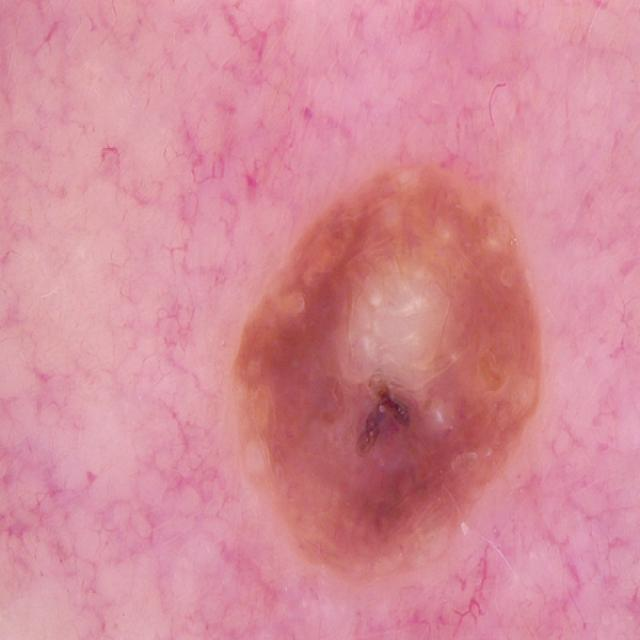Skin-Cancer Pigmented benign keratosis: (5, 12, 627, 640)
